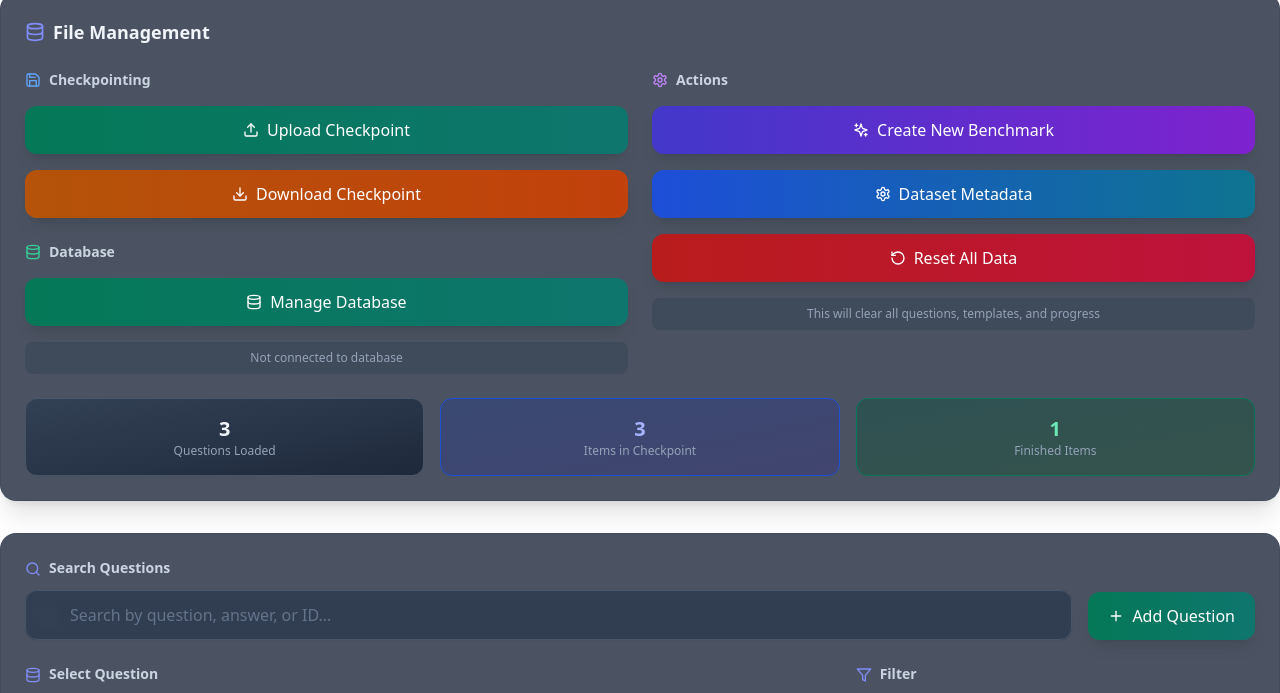
Test: Question Navigation Integration Tests › integ-011: Question search and filter by status › should clear search and show all questions
Enter search term
In the field with placeholder "Search by question, answer, or ID...": (549, 615) [25,590,1072,640], type "Paris"
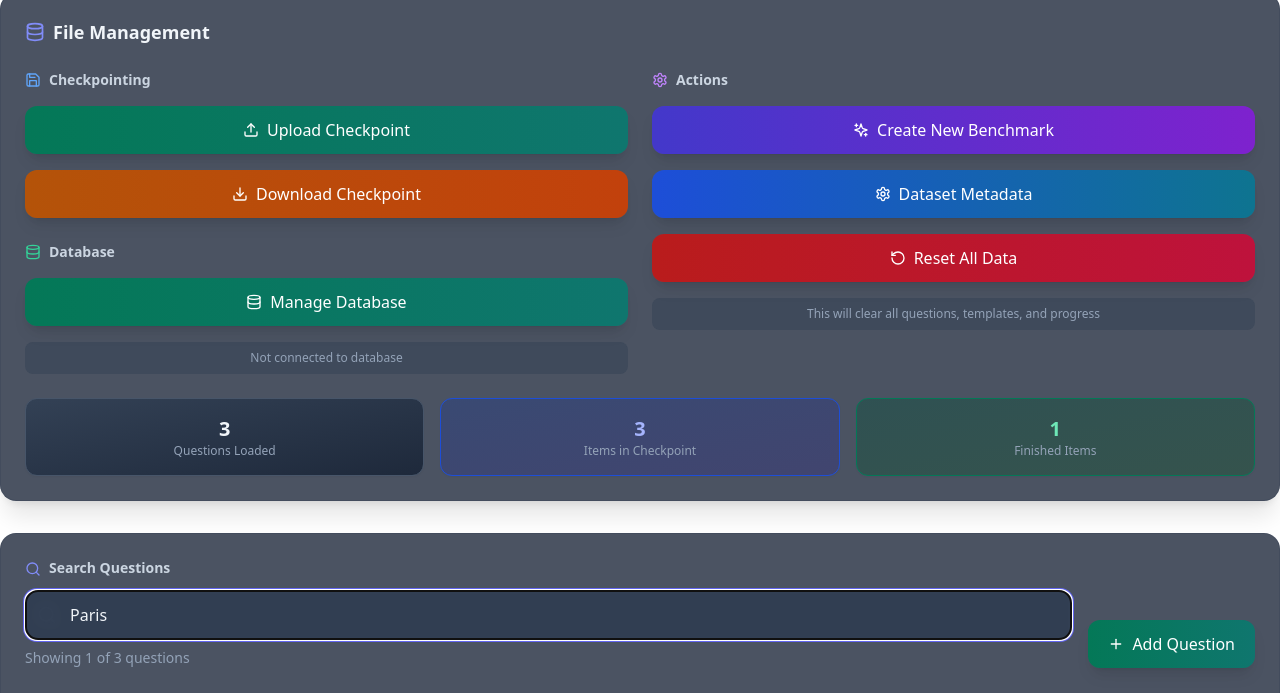
Clear search
Clear the field with placeholder "Search by question, answer, or ID...": (549, 615) [25,590,1072,640]
(page scrolled)
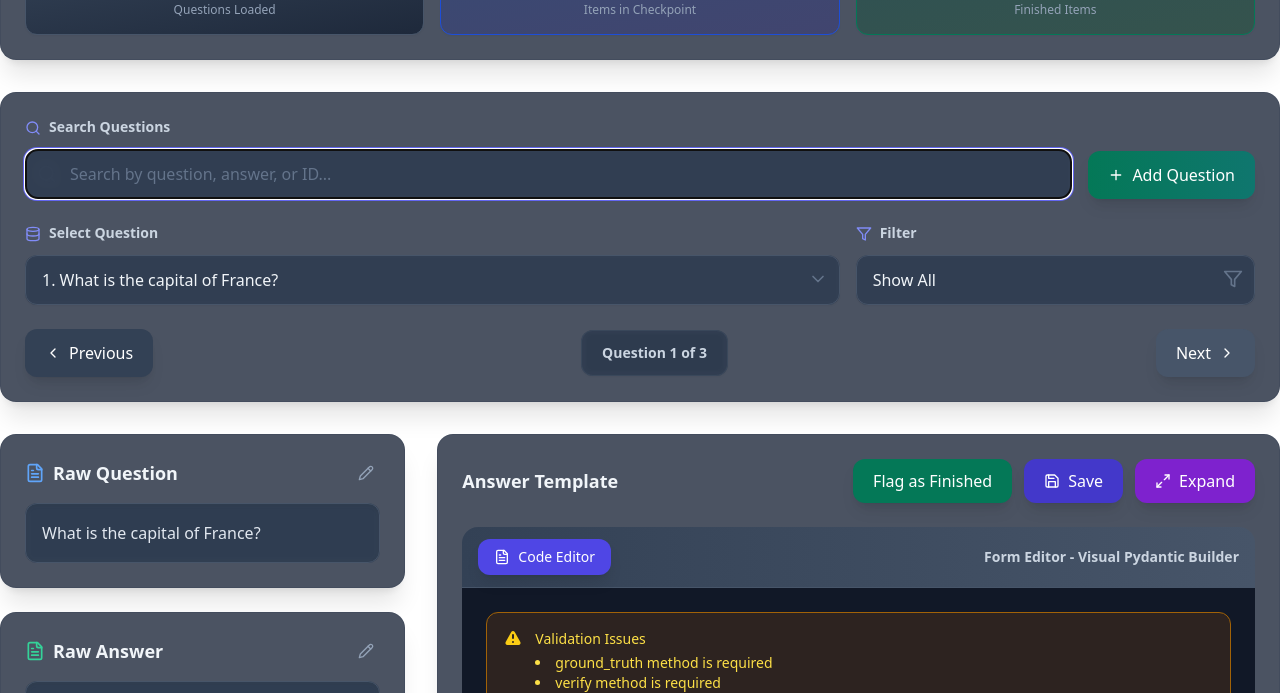
Now the text "Question 1 of 3" is shown, box [602,343,707,363]
